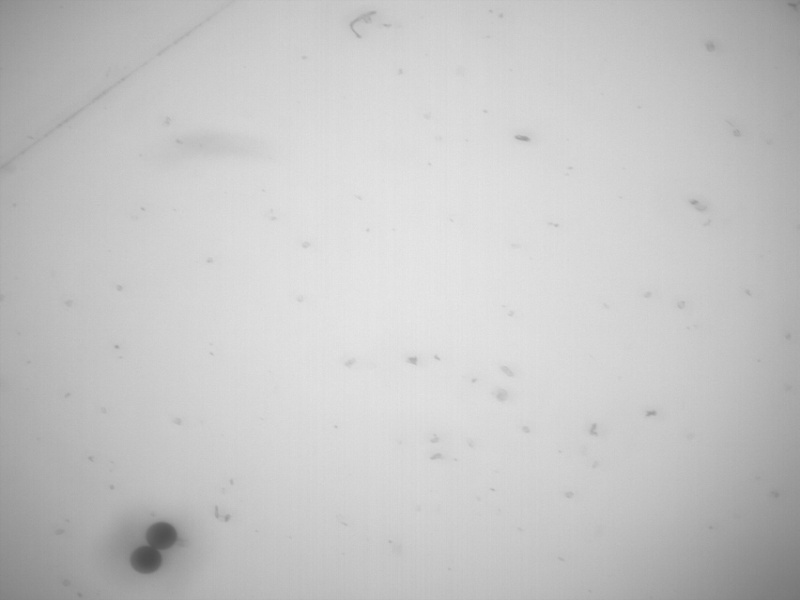bead: (129, 544, 163, 576), (146, 519, 178, 550)
fiber: (350, 11, 377, 39)
